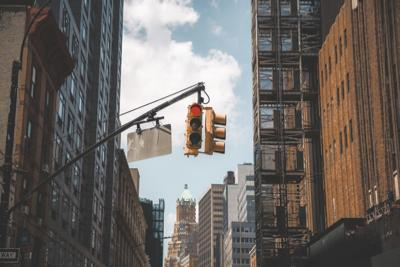International Road Signal Light: (206, 106, 227, 155), (184, 104, 204, 154)
